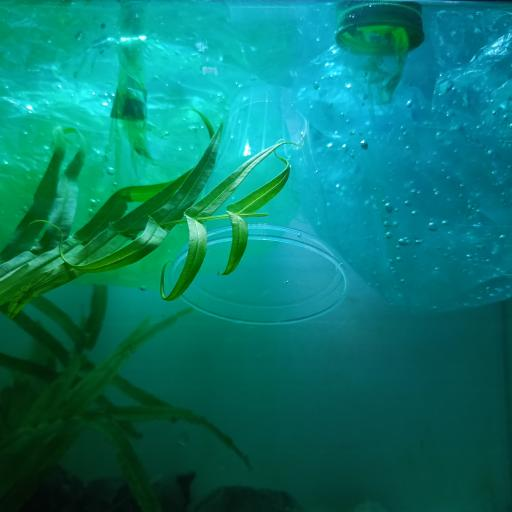bottle_cap: (338, 3, 426, 57)
plastic_bag: (2, 0, 274, 287), (274, 0, 512, 311)
plastic_cup: (174, 86, 344, 326)
